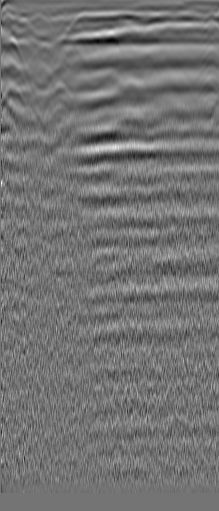오수: (17, 13, 37, 33)
우수: (157, 19, 177, 39)
